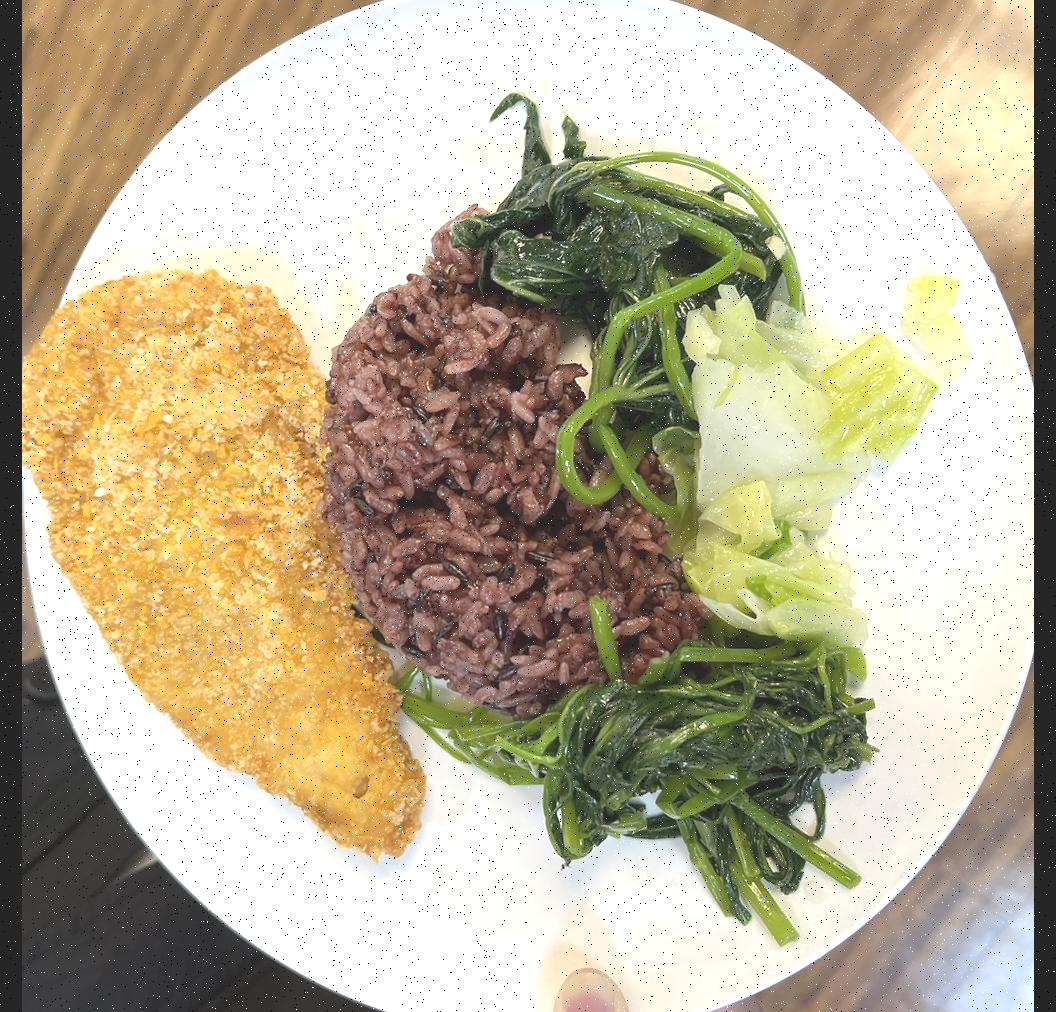big fried chicken leg: (28, 0, 1034, 1012)
braised fish: (320, 253, 679, 710)
braised fish fillet: (378, 614, 868, 935), (475, 84, 795, 534), (682, 276, 982, 637)
braised pork: (30, 268, 424, 861)
